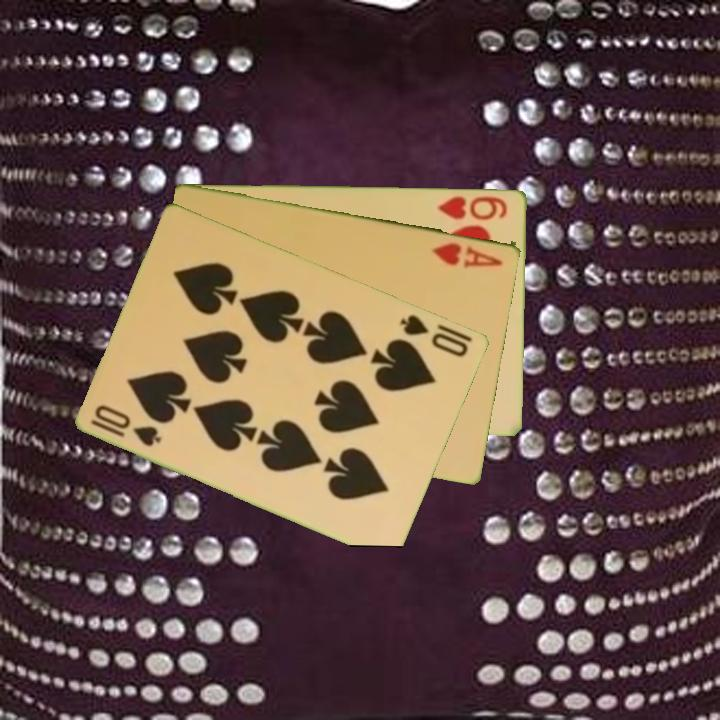10s: (87, 401, 165, 450), (397, 310, 472, 360)
6h: (435, 192, 511, 222)
Ah: (428, 238, 506, 271)
